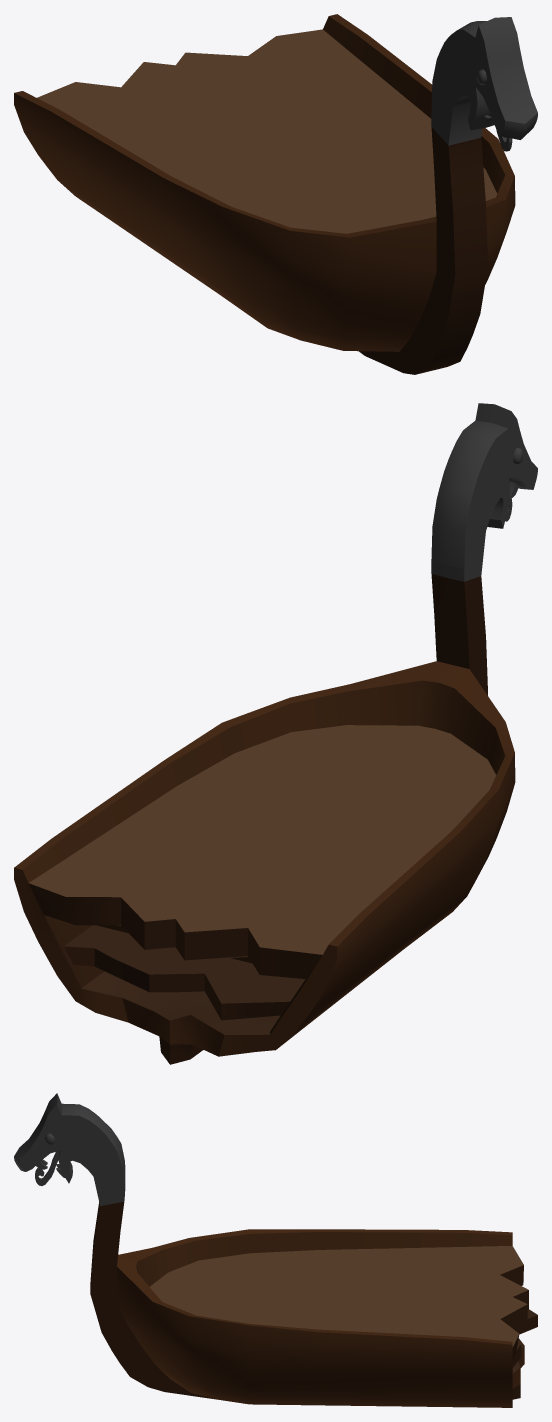
Rendered from Ship_Broken_Front.FBX.
3 views of the same model, one above another, from view 1: azimuth 30°, elevation 25°; view 2: azimuth 150°, elevation 25°; view 3: azimuth 270°, elevation 25° (orthographic). The views are drawn at different scales.
Parts seen in each view (by area): view 1: Object070; view 2: Object070; view 3: Object070.
Boxes of the visible parts, left/top/right/bottom form: Object070: left=14, top=14, right=537, bottom=374; Object070: left=14, top=403, right=537, bottom=1064; Object070: left=14, top=1093, right=537, bottom=1407.
Size of the model in its own units: 921 by 1151 by 1812.
